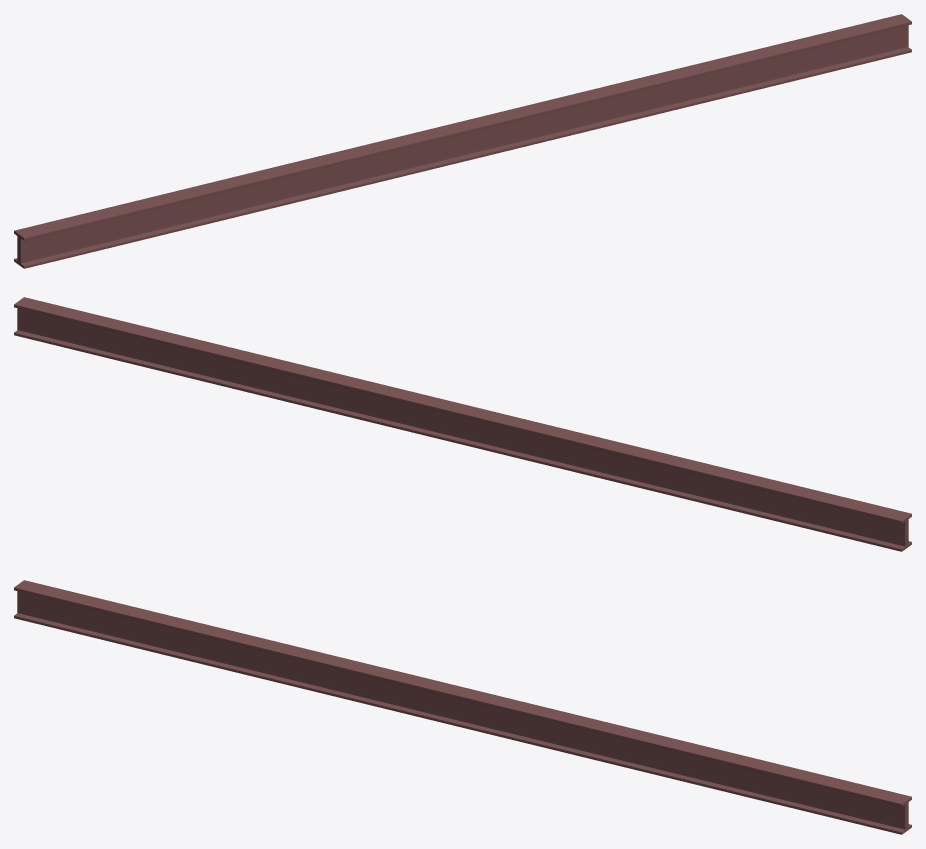
Rendered from Beam_L30.fbx.
3 renders of one model, top to bottom at view 1: azimuth 30°, elevation 25°; view 2: azimuth 150°, elevation 25°; view 3: azimuth 330°, elevation 25°, orthographic.
Parts seen in each view (by area): view 1: Beam_L30; view 2: Beam_L30; view 3: Beam_L30.
Part boxes in pixels (x1,y1,x2,y2): Beam_L30: [14, 14, 911, 268]; Beam_L30: [14, 297, 911, 551]; Beam_L30: [14, 580, 911, 834].
Bounding box in the file's own units: 30 × 1 × 0.6.
